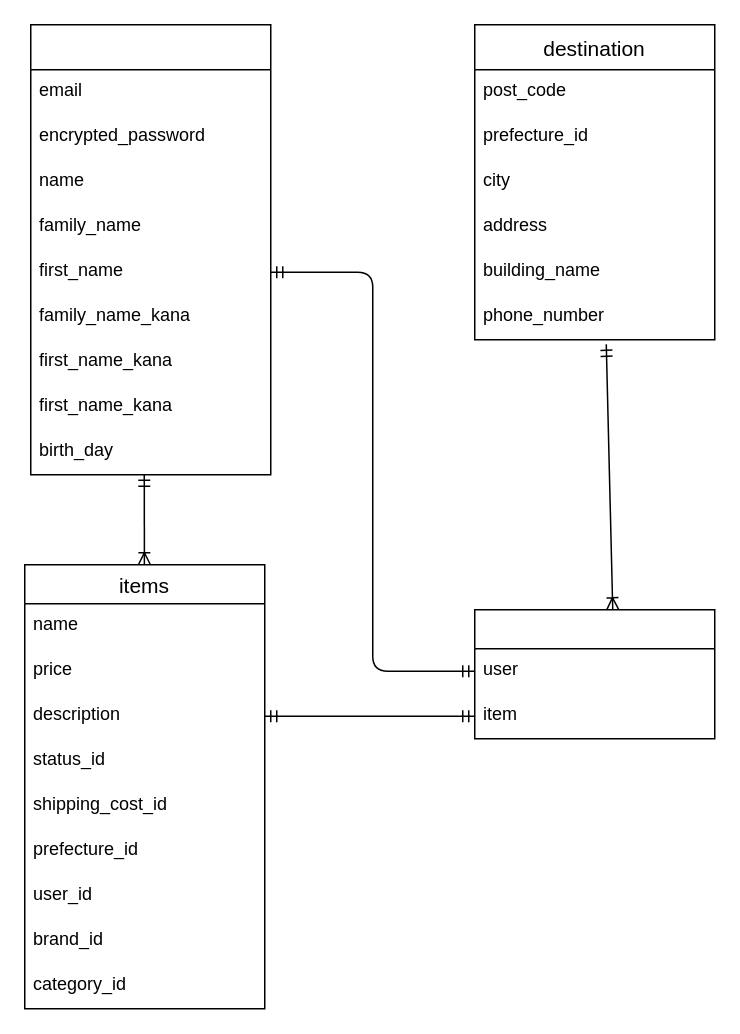
This 740x1034 diagram has some shape labels left out. The shapes that lost their labels are listed below. From the top down, each one's box as (x1, y1, x2, y2) in pixels, then its label:
(29, 23, 271, 475): users
(473, 608, 715, 739): orders
